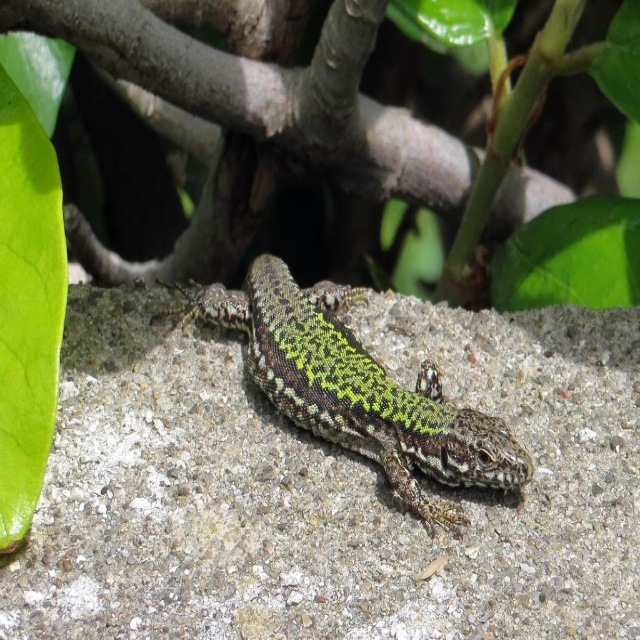Lizard: (169, 277, 535, 556)
